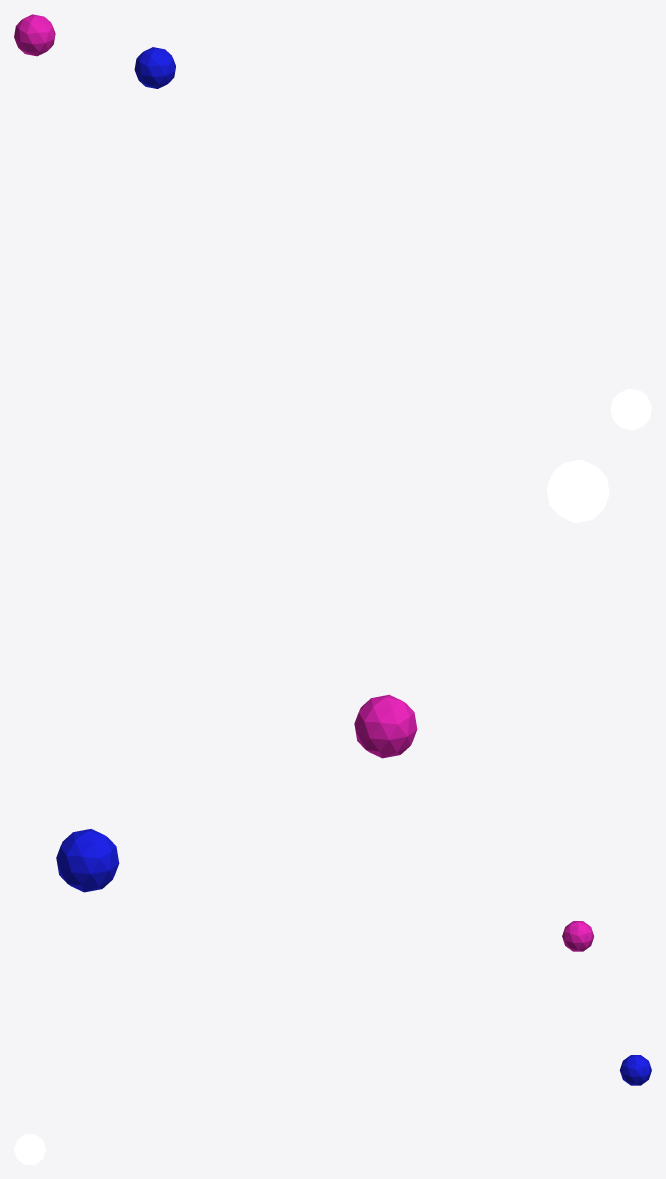
File: web-1.gltf
3 views of the same model, one above another, from view 1: azimuth 30°, elevation 25°; view 2: azimuth 150°, elevation 25°; view 3: azimuth 270°, elevation 25° (orthographic). The views are drawn at different scales.
Visible parts, largest first — view 1: Icosphere.002, Icosphere, Icosphere.001; view 2: Icosphere, Icosphere.001, Icosphere.002; view 3: Icosphere.002, Icosphere, Icosphere.001.
Part boxes in pixels (x1=…): Icosphere.002: x1=134, y1=47, x2=175, y2=88; Icosphere: x1=14, y1=14, x2=55, y2=56; Icosphere.001: x1=610, y1=388, x2=651, y2=430; Icosphere: x1=354, y1=694, x2=417, y2=758; Icosphere.001: x1=546, y1=459, x2=609, y2=522; Icosphere.002: x1=56, y1=829, x2=119, y2=892; Icosphere.002: x1=619, y1=1055, x2=651, y2=1085; Icosphere: x1=562, y1=921, x2=594, y2=951; Icosphere.001: x1=14, y1=1134, x2=45, y2=1164.
Size of what is drawn, in the model's own units: 14.64 by 10.65 by 39.58.
